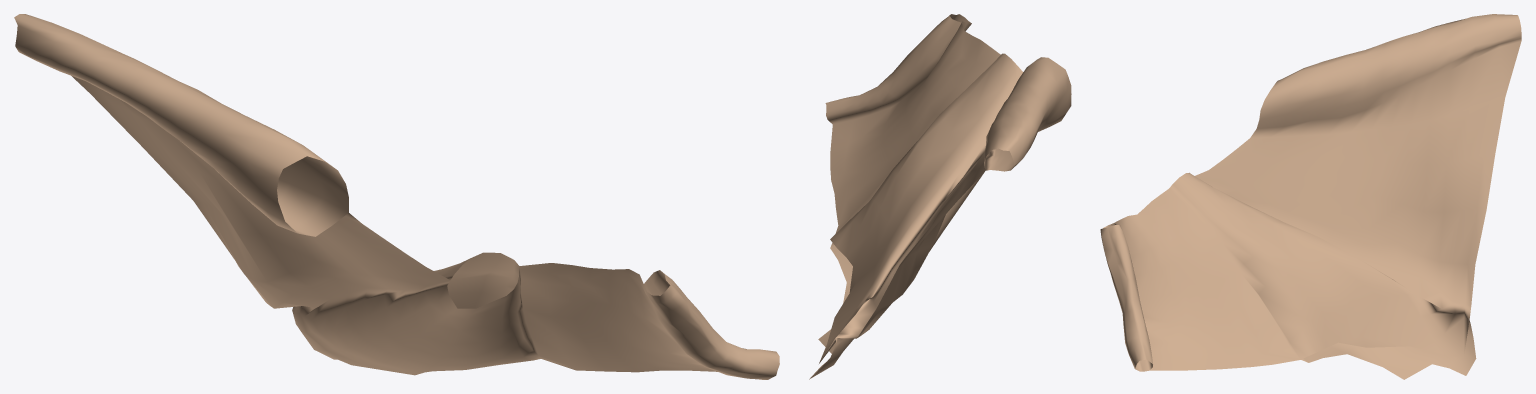
3 renders of one model, left to right at view 1: azimuth 30°, elevation 25°; view 2: azimuth 150°, elevation 25°; view 3: azimuth 270°, elevation 25°, orthographic. The views are drawn at different scales.
Visible parts, largest first — view 1: 右侧锁胸筋膜; view 2: 右侧锁胸筋膜; view 3: 右侧锁胸筋膜.
Boxes of the visible parts, left/top/right/bottom form: 右侧锁胸筋膜: left=14, top=14, right=779, bottom=379; 右侧锁胸筋膜: left=809, top=14, right=1071, bottom=379; 右侧锁胸筋膜: left=1100, top=14, right=1521, bottom=379.
Bounding box in the file's own units: 0.2231 × 0.1654 × 0.2355.
